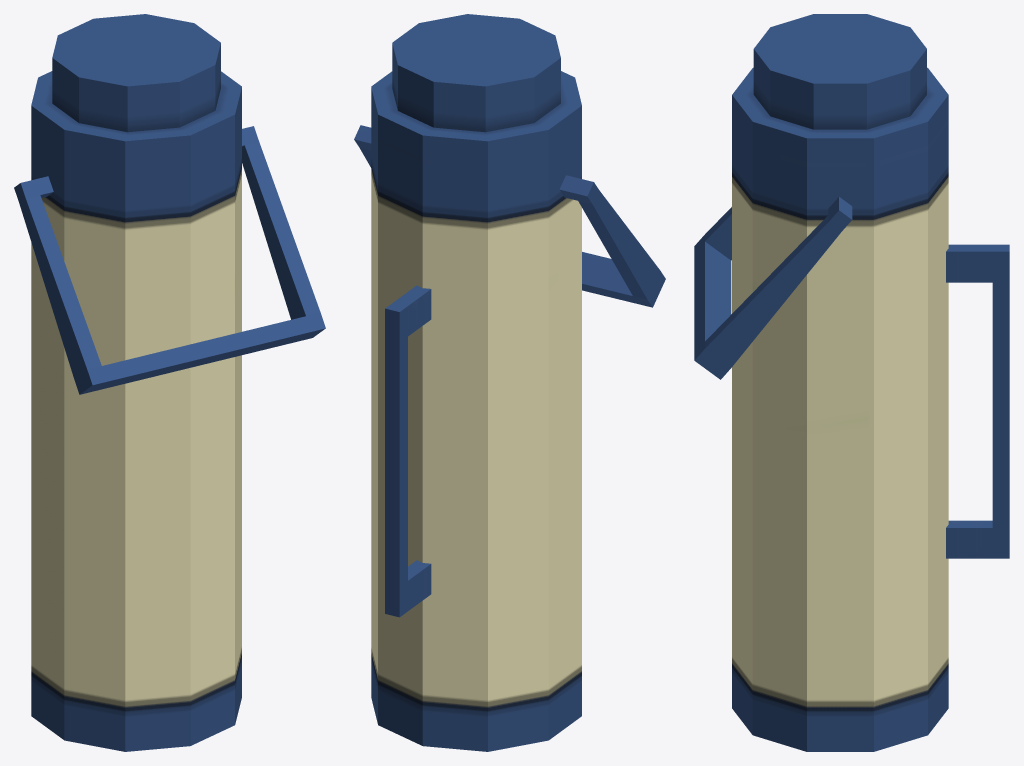
The model's file is Termos.fbx.
The picture shows the model from 3 angles, left to right: view 1: azimuth 30°, elevation 25°; view 2: azimuth 150°, elevation 25°; view 3: azimuth 270°, elevation 25°; orthographic projection.
Parts seen in each view (by area): view 1: Termos; view 2: Termos; view 3: Termos.
Part boxes in pixels (x1,y1,x2,y2): Termos: [14, 14, 325, 751]; Termos: [354, 14, 665, 751]; Termos: [694, 14, 1009, 751].
Bounding box in the file's own units: 16 × 43 × 18.63.
Materials: 1 (1 with a texture image).
